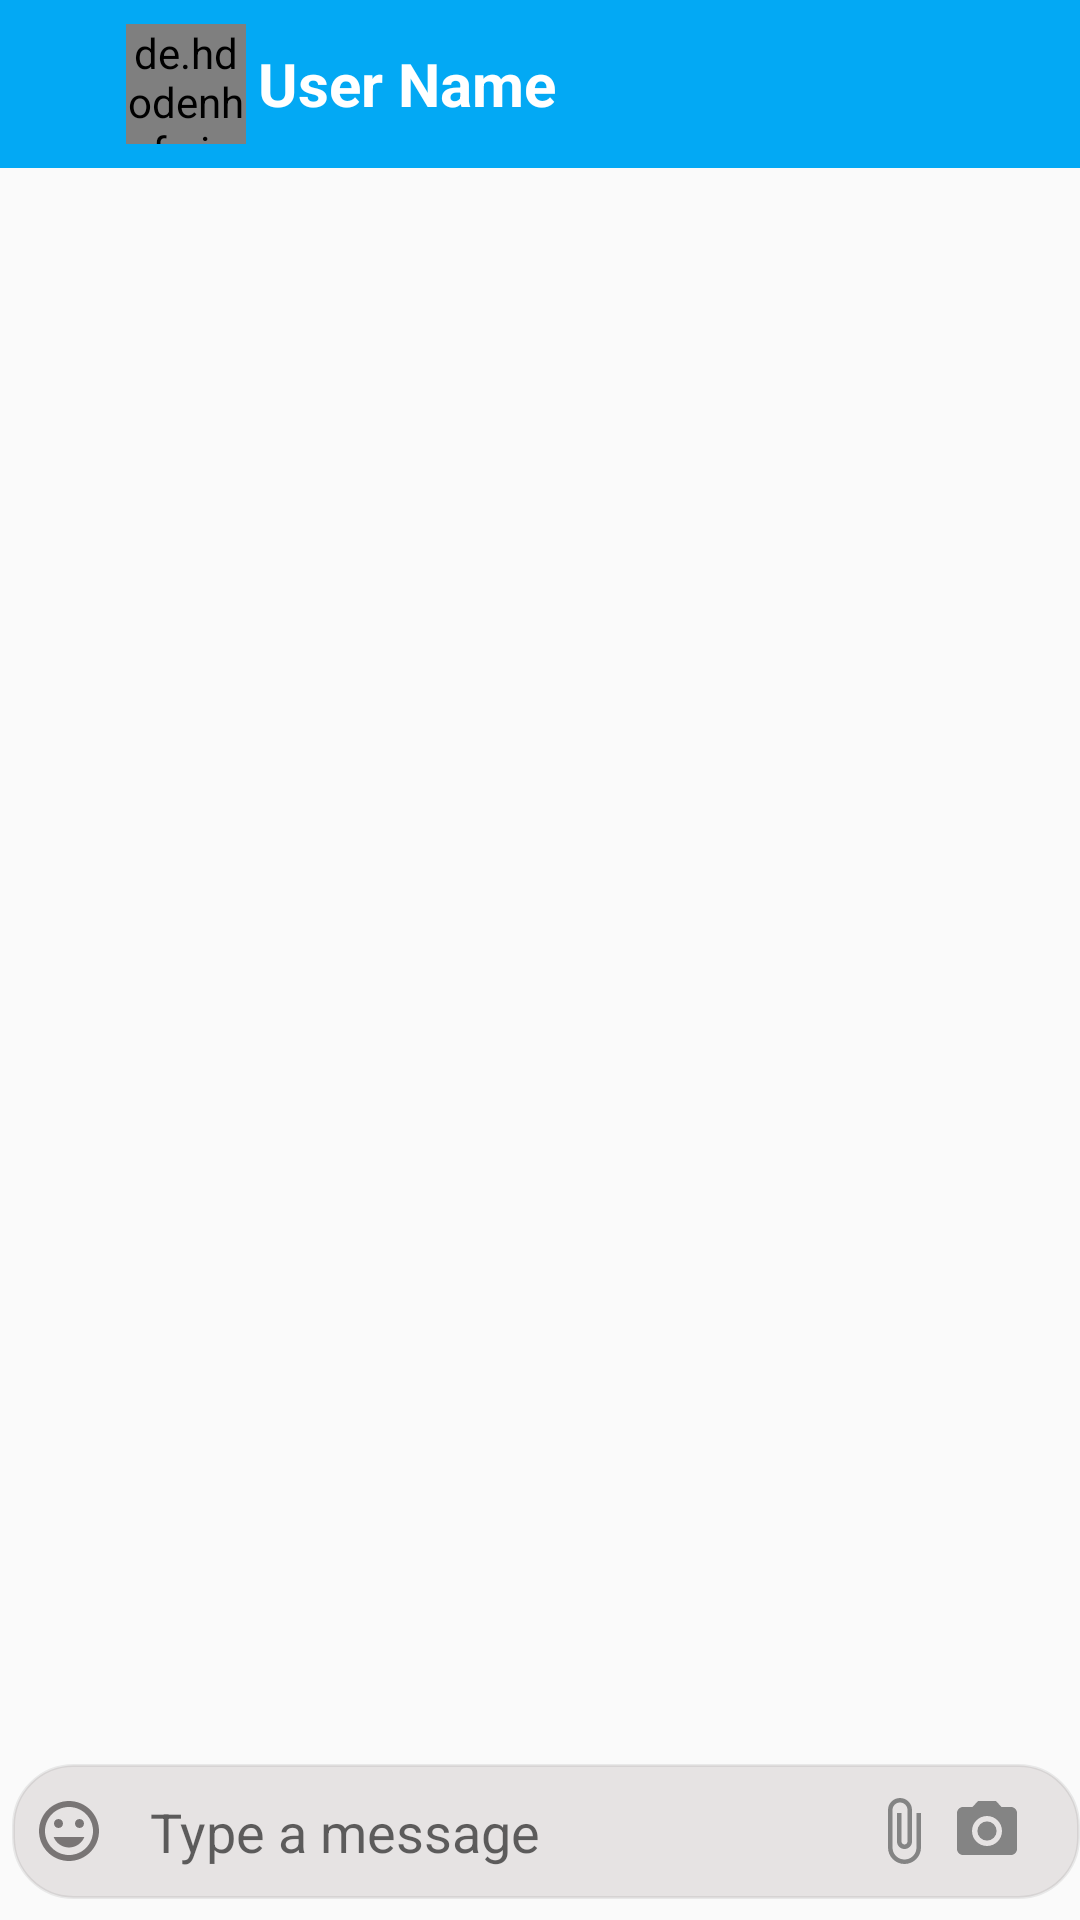

Locate icon controls on the screen. Image size 1080*1920, boxes as Rect(x1, y1, x2, y2).
attach file: Rect(888, 1798, 921, 1864)
insert emoticon: Rect(39, 1801, 99, 1861)
photo camera: Rect(957, 1801, 1017, 1855)
